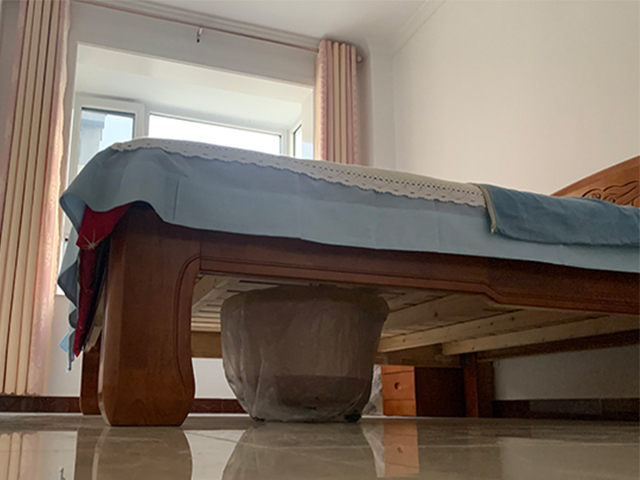bed: (57, 137, 640, 427)
cabinet: (380, 364, 468, 417)
curtain: (1, 1, 71, 398), (312, 38, 359, 166)
